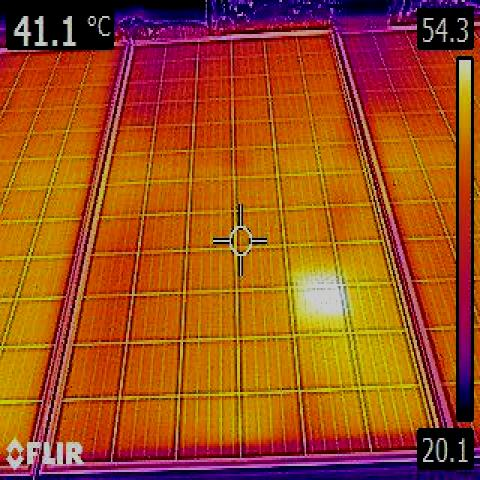fault: (298, 281, 343, 328)
